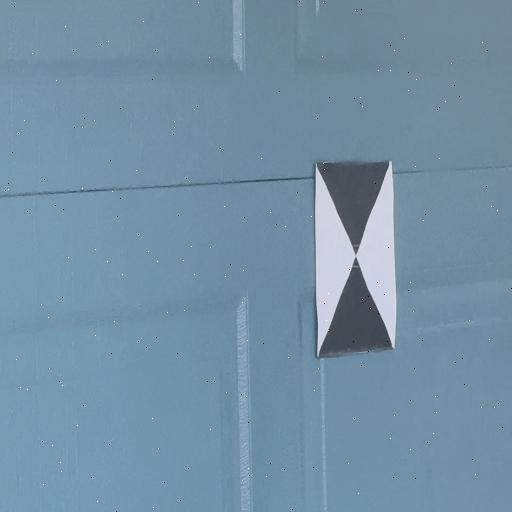target: (316, 163, 395, 350)
